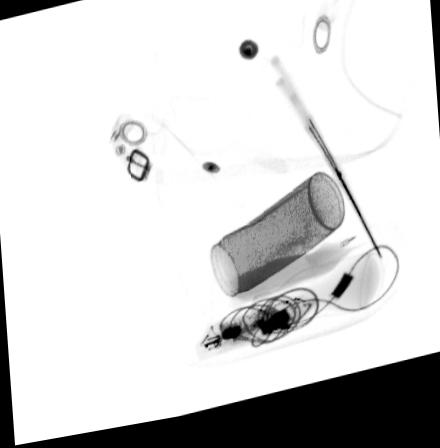Scissors: (269, 61, 382, 271)
